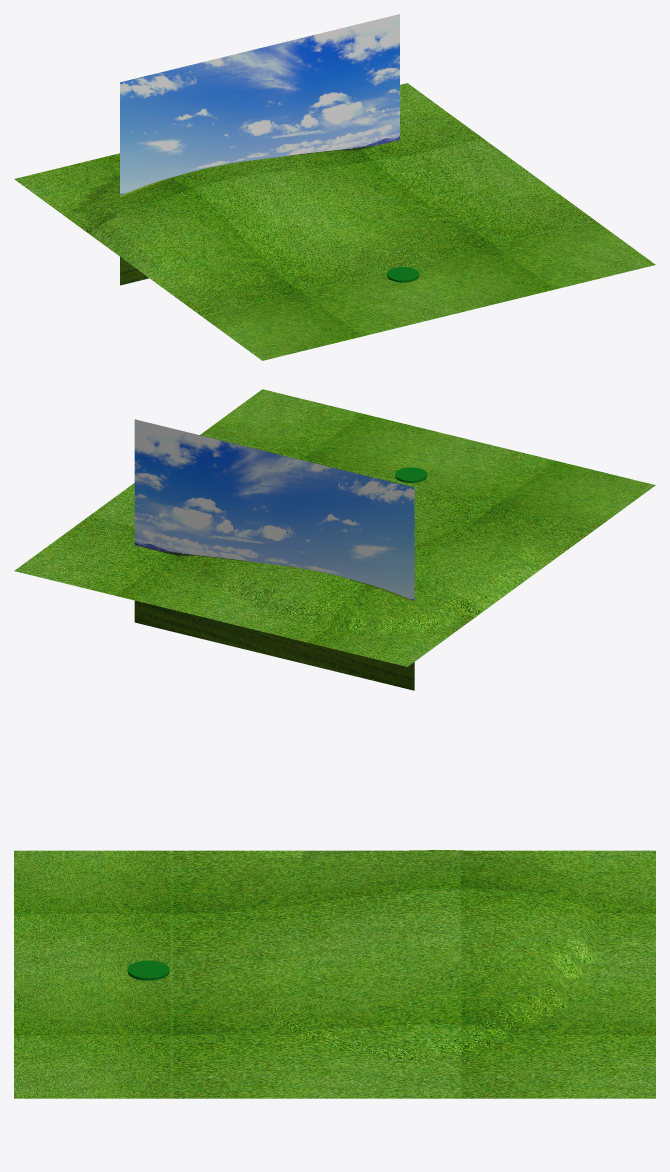
File: windows.glb
The picture shows the model from 3 angles, top to bottom: view 1: azimuth 30°, elevation 25°; view 2: azimuth 150°, elevation 25°; view 3: azimuth 270°, elevation 25°; orthographic projection. The views are drawn at different scales.
Parts seen in each view (by area): view 1: Plane, Plane.001; view 2: Plane, Plane.001; view 3: Plane, Circle.
Part boxes in pixels (x1,y1,x2,y2): Plane: (14,83,655,360); Plane.001: (120,14,399,285); Plane: (14,389,655,666); Plane.001: (134,419,414,690); Plane: (14,850,655,1098); Circle: (127,960,169,980).
Size of the model in its own units: 9.7 by 4.78 by 10.6.
Materials: 3 (2 with a texture image).
